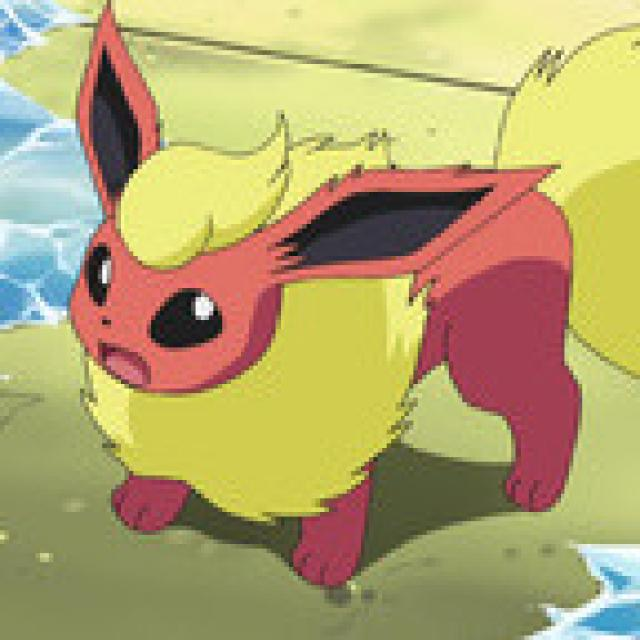Flareon: (64, 88, 606, 549)
